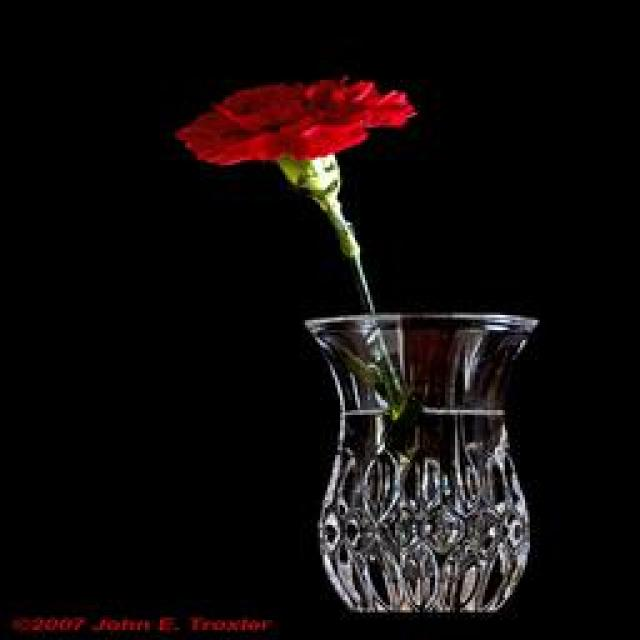carnation: (168, 64, 418, 218)
